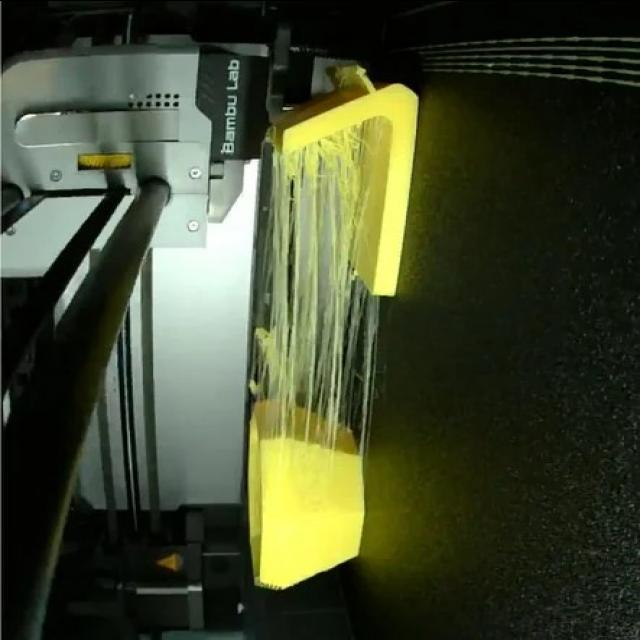Stringing: (267, 153, 351, 431), (360, 298, 382, 358)
